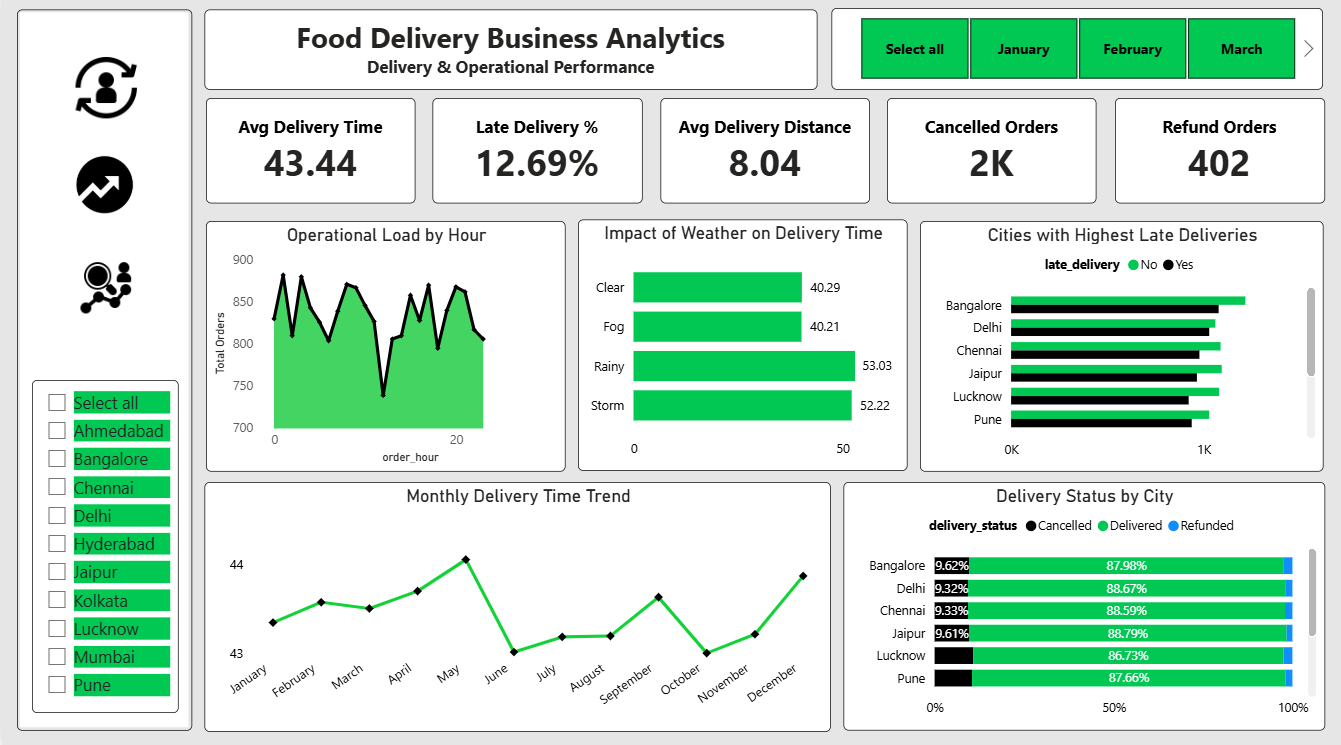

Layout of this report page (visuals, bound fields, positions):
{"tool":"powerbi","page":{"name":"Delivery & Operational Performance","canvas":[1280,720],"ordinal":2},"visuals":[{"type":"textbox","box":[194.1,15.9,585.3,76.3],"z":0},{"type":"slicer","fields":{"Values":["orders_cleaned.Month Name"]},"box":[792.1,15,469.2,77.9],"z":1000},{"type":"cardVisual","fields":{"Data":["delivery_cleaned.Avg Delivery Time"]},"box":[194.3,100.4,200,100.4],"z":2000},{"type":"cardVisual","fields":{"Data":["orders_cleaned.Late Delivery %"]},"box":[411.1,100.4,200.8,100.4],"z":3000},{"type":"cardVisual","fields":{"Data":["delivery_cleaned.Cancelled Orders"]},"box":[845.4,100.4,200,100.4],"z":4000},{"type":"cardVisual","fields":{"Data":["delivery_cleaned.Refund Orders"]},"box":[1062.2,100.4,200.8,100.4],"z":5000},{"type":"clusteredBarChart","title":"Cities with Highest Late Deliveries","fields":{"Category":["customers_cleaned.city"],"Y":["orders_cleaned.Total Orders"],"Series":["delivery_cleaned.late_delivery"]},"box":[876.8,217.4,385.5,239.1],"z":6000},{"type":"lineChart","title":"Monthly Delivery Time Trend","fields":{"Category":["orders_cleaned.Month Name"],"Y":["delivery_cleaned.Avg Delivery Time"]},"box":[194.1,467.6,598.1,238.6],"z":7000},{"type":"shape","box":[14.3,15.9,167,688.7],"z":8000},{"type":"slicer","fields":{"Values":["orders_cleaned.city"]},"box":[28.6,370,140,318.1],"z":9000},{"type":"hundredPercentStackedBarChart","title":"Delivery Status by City","fields":{"Category":["customers_cleaned.city"],"Series":["delivery_cleaned.delivery_status"],"Y":["CountNonNull(delivery_cleaned.delivery_id)"]},"box":[803.3,467.6,459.7,237],"z":10000},{"type":"areaChart","title":"Operational Load by Hour","fields":{"Y":["orders_cleaned.Total Orders"],"Category":["orders_cleaned.order_hour"]},"box":[194.2,217.4,343.5,239.1],"z":11000},{"type":"cardVisual","fields":{"Data":["delivery_cleaned.Avg Delivery Distance"]},"box":[628.7,100.4,200,100.4],"z":12000},{"type":"image","box":[63.6,151.1,70,65.2],"z":13000},{"type":"image","box":[70,54.1,58.9,71.6],"z":14000},{"type":"image","box":[60.4,252.9,77.9,55.7],"z":15000},{"type":"clusteredBarChart","title":"Impact of Weather on Delivery Time","fields":{"Category":["delivery_cleaned.weather_condition"],"Y":["Avg(delivery_cleaned.delivery_time_minutes)"]},"box":[550.4,216.3,314.9,240.2],"z":15001}]}

Visuals, with their boxes in screenshot pixels (x1, y1, x2, y2), scaled from the page's 1280x720 canvas onto the 1341x745 screenshot:
textbox: x1=203 y1=16 x2=817 y2=95
slicer - orders_cleaned.Month Name: x1=830 y1=16 x2=1321 y2=96
cardVisual - delivery_cleaned.Avg Delivery Time: x1=204 y1=104 x2=413 y2=208
cardVisual - orders_cleaned.Late Delivery %: x1=431 y1=104 x2=641 y2=208
cardVisual - delivery_cleaned.Cancelled Orders: x1=886 y1=104 x2=1095 y2=208
cardVisual - delivery_cleaned.Refund Orders: x1=1113 y1=104 x2=1323 y2=208
"Cities with Highest Late Deliveries" clusteredBarChart: x1=919 y1=225 x2=1322 y2=472
"Monthly Delivery Time Trend" lineChart: x1=203 y1=484 x2=830 y2=731
shape: x1=15 y1=16 x2=190 y2=729
slicer - orders_cleaned.city: x1=30 y1=383 x2=177 y2=712
"Delivery Status by City" hundredPercentStackedBarChart: x1=842 y1=484 x2=1323 y2=729
"Operational Load by Hour" areaChart: x1=203 y1=225 x2=563 y2=472
cardVisual - delivery_cleaned.Avg Delivery Distance: x1=659 y1=104 x2=868 y2=208
image: x1=67 y1=156 x2=140 y2=224
image: x1=73 y1=56 x2=135 y2=130
image: x1=63 y1=262 x2=145 y2=319
"Impact of Weather on Delivery Time" clusteredBarChart: x1=577 y1=224 x2=907 y2=472
